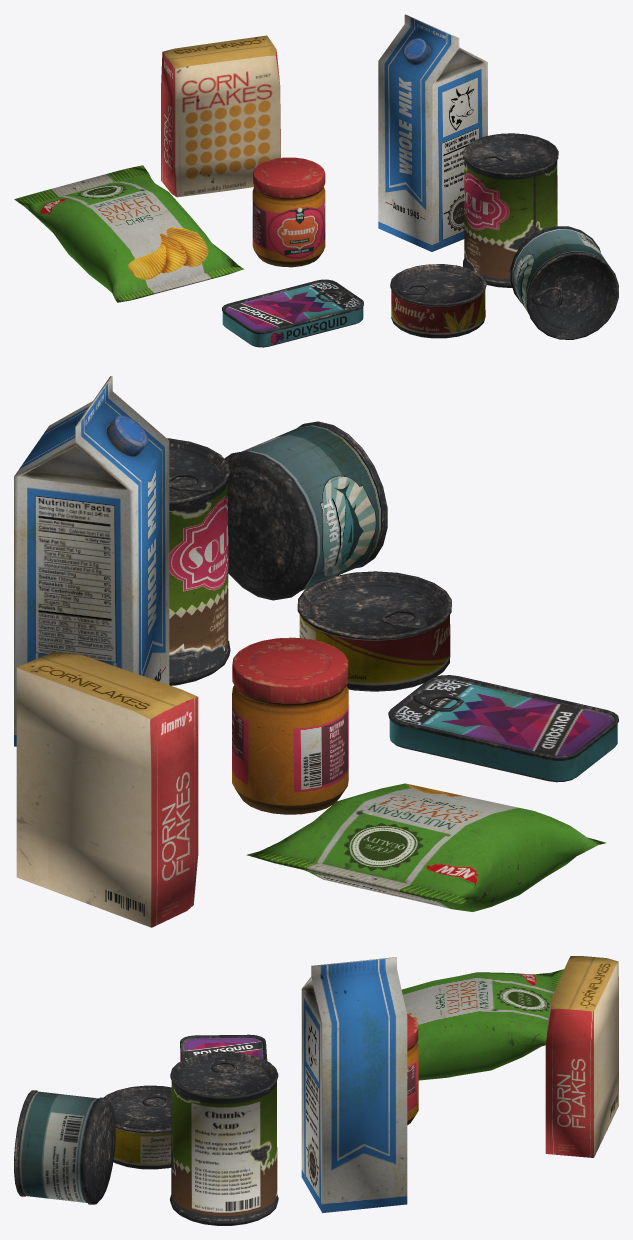
File: survival-food-pack.fbx
3 renders of one model, top to bottom at view 1: azimuth 30°, elevation 25°; view 2: azimuth 150°, elevation 25°; view 3: azimuth 270°, elevation 25°, orthographic. The views are drawn at different scales.
Parts seen in each view (by area): view 1: milk_0, box_0, chips_0, soup_0, tuna_0, jar_0, squid_0, corn_0; view 2: box_0, milk_0, chips_0, tuna_0, jar_0, squid_0, corn_0, soup_0; view 3: milk_0, soup_0, box_0, chips_0, tuna_0, corn_0, squid_0, jar_0.
Part boxes in pixels (x1,y1,x2,y2): milk_0: [378, 14, 487, 251]; box_0: [161, 35, 280, 197]; chips_0: [14, 165, 244, 302]; soup_0: [463, 133, 558, 287]; tuna_0: [510, 226, 618, 339]; jar_0: [252, 157, 325, 267]; squid_0: [222, 279, 363, 347]; corn_0: [390, 264, 486, 338]; box_0: [16, 652, 198, 927]; milk_0: [14, 376, 169, 746]; chips_0: [246, 783, 606, 911]; tuna_0: [224, 421, 387, 600]; jar_0: [232, 637, 348, 814]; squid_0: [388, 675, 618, 782]; corn_0: [297, 571, 451, 691]; soup_0: [167, 438, 230, 685]; milk_0: [301, 957, 407, 1213]; soup_0: [170, 1052, 278, 1225]; box_0: [545, 956, 618, 1157]; chips_0: [401, 969, 564, 1080]; tuna_0: [14, 1090, 115, 1204]; corn_0: [104, 1085, 171, 1169]; squid_0: [180, 1034, 267, 1061]; jar_0: [407, 1014, 418, 1125].
Size of what is drawn, in the model's own units: 5.42 by 2.83 by 6.54.
